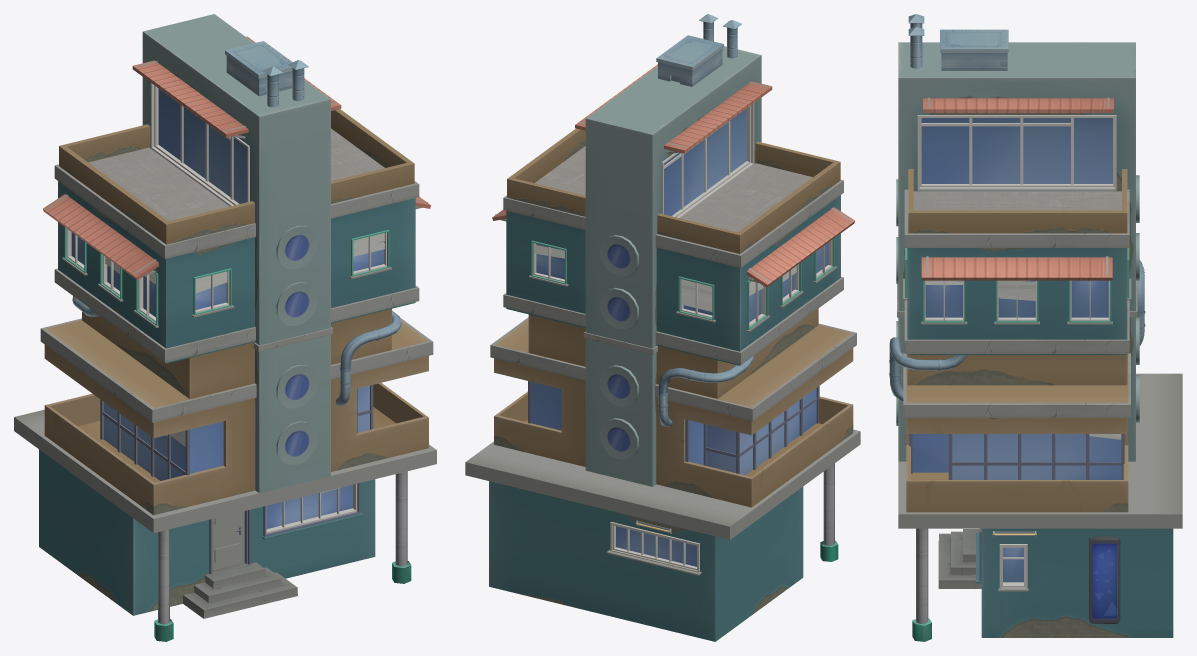
The model's file is Building_06_3_LOD1.fbx.
The picture shows the model from 3 angles, left to right: view 1: azimuth 30°, elevation 25°; view 2: azimuth 150°, elevation 25°; view 3: azimuth 270°, elevation 25°; orthographic projection. The views are drawn at different scales.
Parts seen in each view (by area): view 1: polySurface4219; view 2: polySurface4219; view 3: polySurface4219.
Part boxes in pixels (x1,y1,x2,y2): polySurface4219: (14, 14, 436, 641); polySurface4219: (465, 14, 860, 641); polySurface4219: (889, 14, 1182, 641).
Bounding box in the file's own units: 980 × 1740 × 829.
